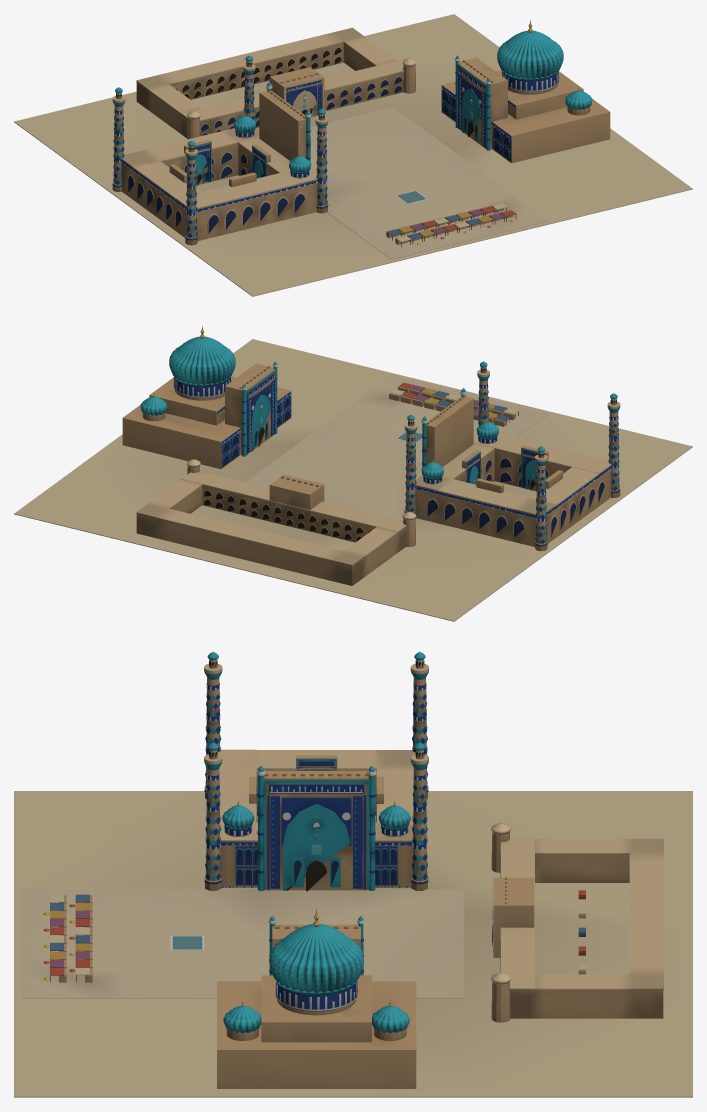
File: registan-1440.glb
3 views of the same model, one above another, from view 1: azimuth 30°, elevation 25°; view 2: azimuth 150°, elevation 25°; view 3: azimuth 270°, elevation 25° (orthographic). The views are drawn at different scales.
Parts seen in each view (by area): view 1: p0_square, p2_market, p1_ulugh beg madrasa; view 2: p0_square, p2_market, p1_ulugh beg madrasa; view 3: p0_square, p2_market, p1_ulugh beg madrasa.
Boxes of the visible parts, bbox=[...] form: p0_square: bbox=[14, 14, 692, 296]; p2_market: bbox=[136, 19, 610, 246]; p1_ulugh beg madrasa: bbox=[112, 55, 328, 245]; p0_square: bbox=[14, 339, 692, 621]; p2_market: bbox=[122, 325, 518, 585]; p1_ulugh beg madrasa: bbox=[404, 361, 620, 551]; p0_square: bbox=[14, 791, 692, 1097]; p2_market: bbox=[43, 823, 663, 1088]; p1_ulugh beg madrasa: bbox=[204, 651, 428, 891].
Bounding box in the file's own units: 196 × 45.21 × 184.
